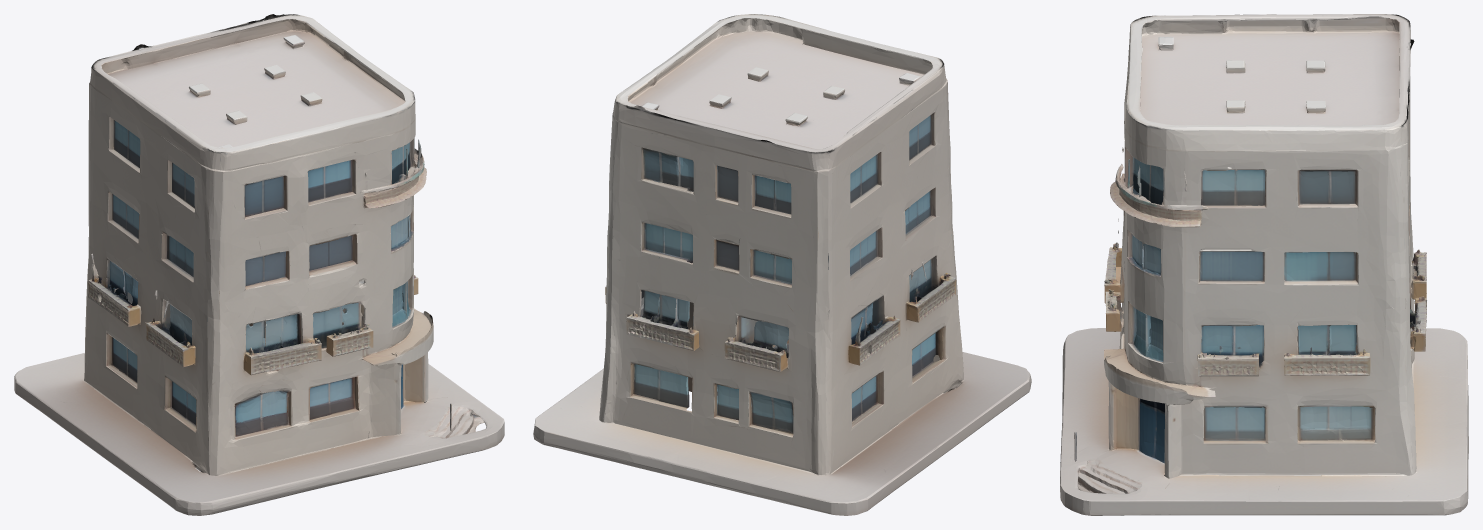
The model's file is hostel.glb.
3 renders of one model, left to right at view 1: azimuth 30°, elevation 25°; view 2: azimuth 150°, elevation 25°; view 3: azimuth 270°, elevation 25°, orthographic. The views are drawn at different scales.
Bounding box in the file's own units: 100 × 97.28 × 99.27.
1 material, 1 textured.
